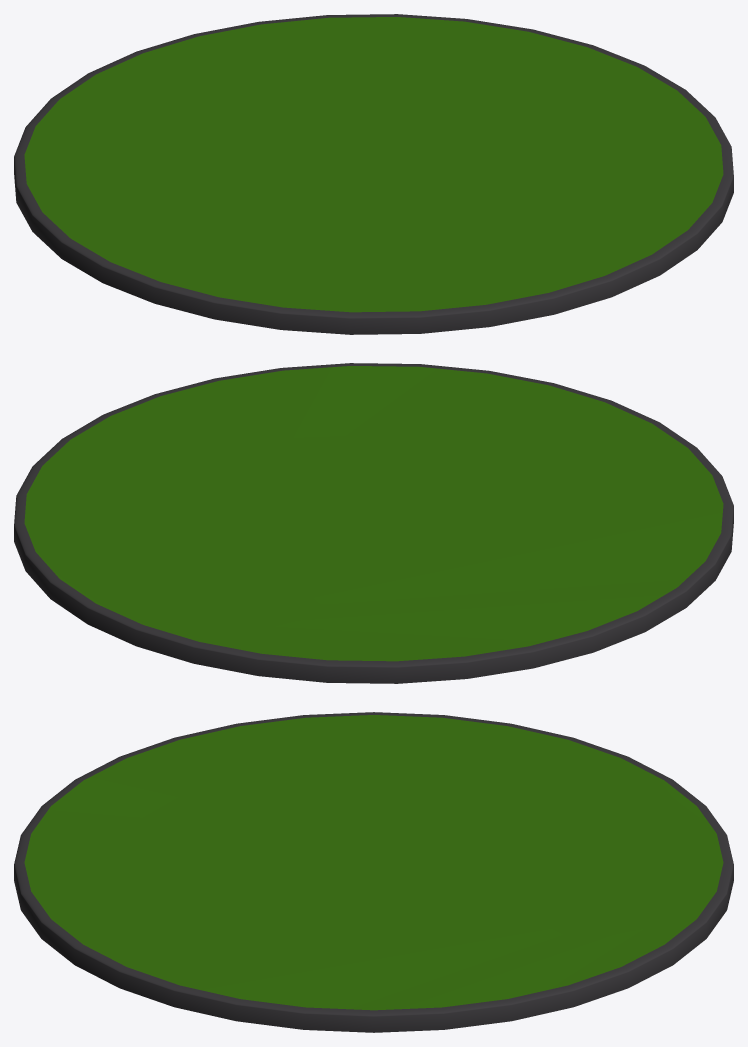
The model's file is rotonda 1C1E con 2C1E.fbx.
The picture shows the model from 3 angles, top to bottom: view 1: azimuth 30°, elevation 25°; view 2: azimuth 150°, elevation 25°; view 3: azimuth 270°, elevation 25°; orthographic projection.
Visible parts, largest first — view 1: Cylinder; view 2: Cylinder; view 3: Cylinder.
Part boxes in pixels (x1=…): Cylinder: x1=14, y1=14, x2=733, y2=334; Cylinder: x1=14, y1=363, x2=733, y2=683; Cylinder: x1=14, y1=712, x2=733, y2=1032.
Bounding box in the file's own units: 900 × 24.97 × 900.
2 materials, 2 textured.
